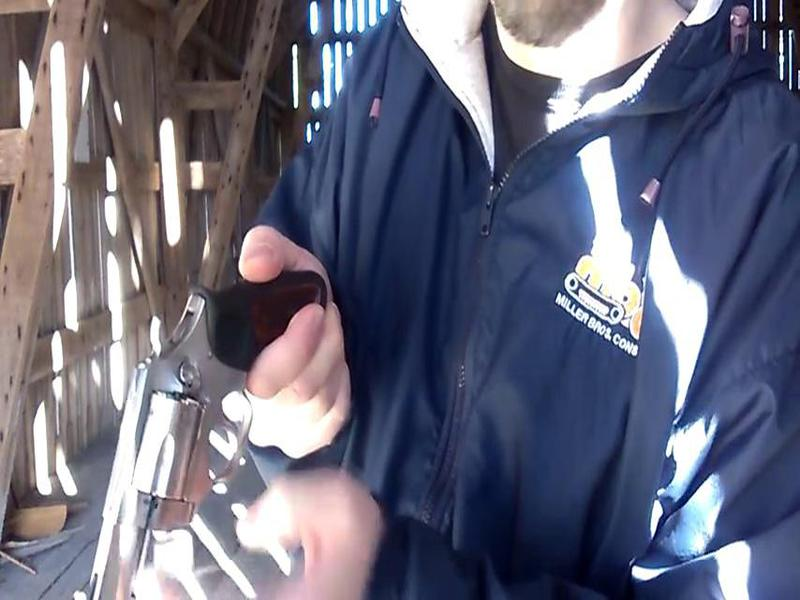Revolver: (99, 275, 262, 594)
